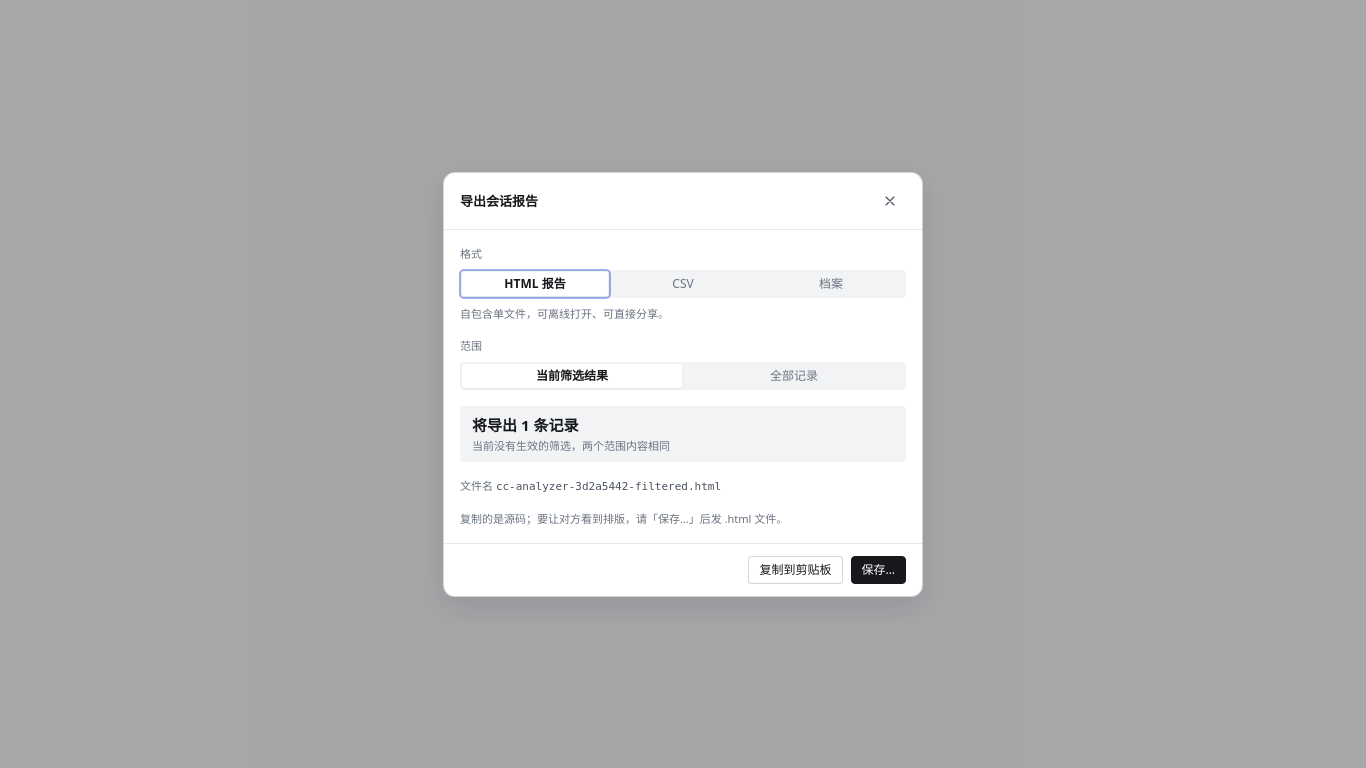
Scenario: defaults to HTML over the current filter, whatever the data says
The width and height of the screenshot is (1366, 768).
Expected: the text "当前没有生效的筛选，两个范围内容相同" is shown, x1=472 y1=438 x2=670 y2=452
Click the tab "全部记录".
click(794, 376)  # box x1=684 y1=364 x2=904 y2=388
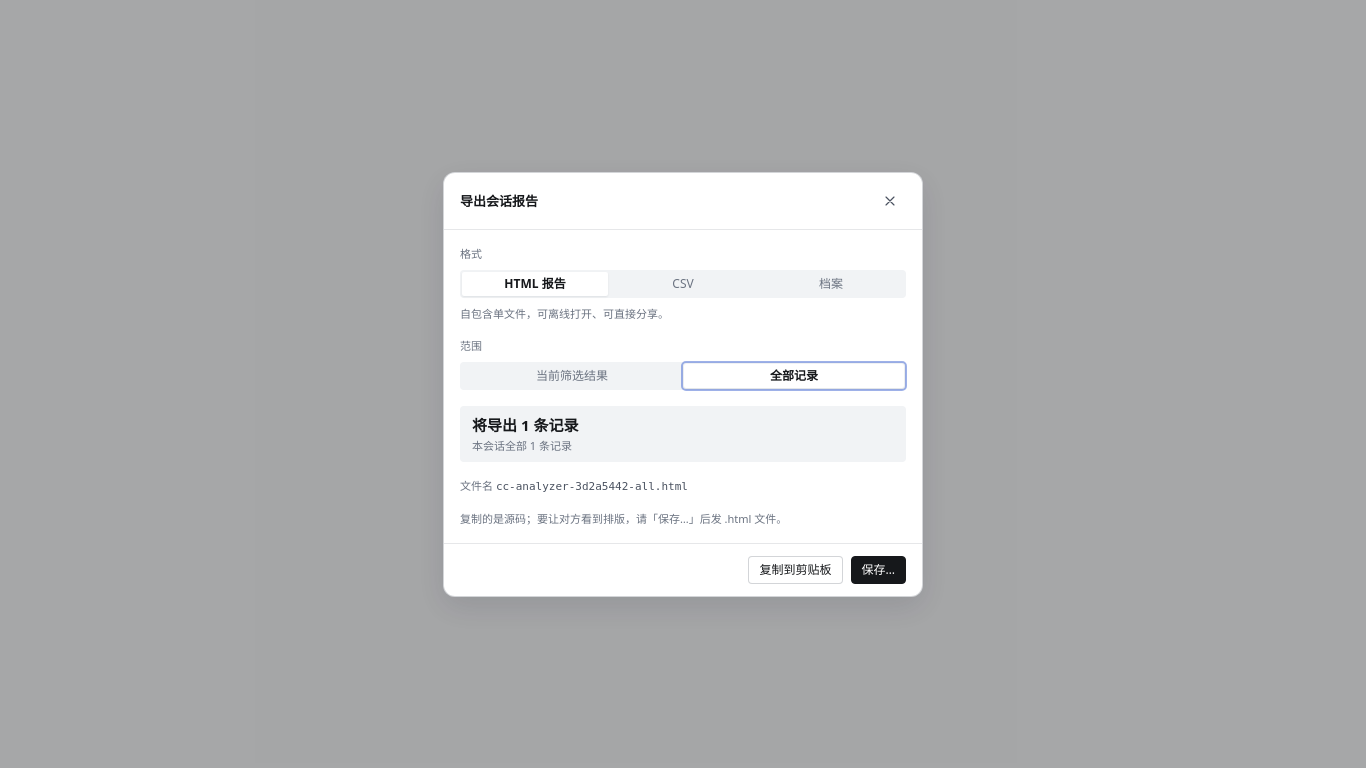
Expected: the text "本会话全部 1 条记录" is shown, x1=472 y1=438 x2=572 y2=452
